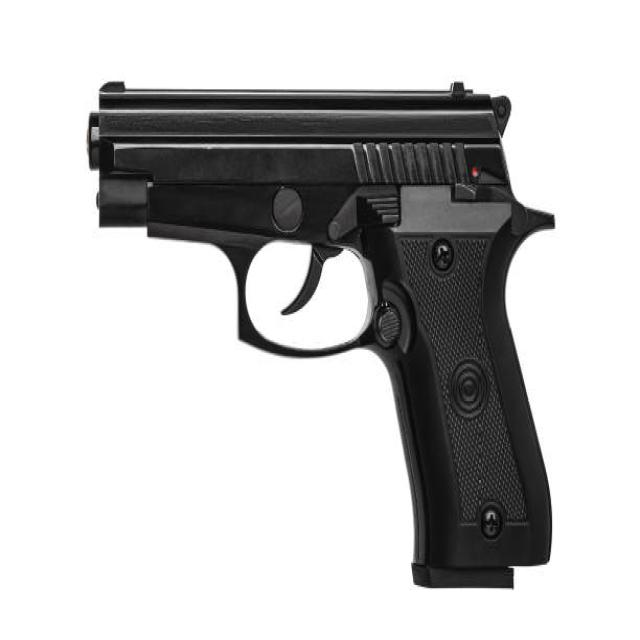pistol: (84, 69, 561, 607)
